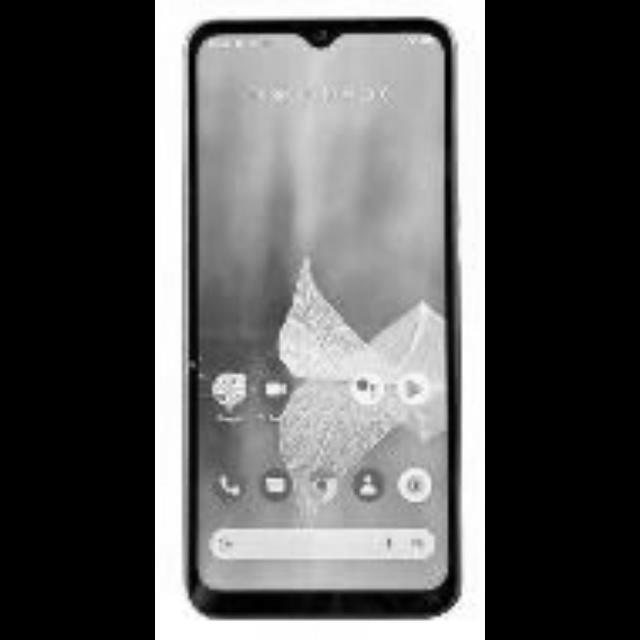fake: (174, 10, 470, 630)
